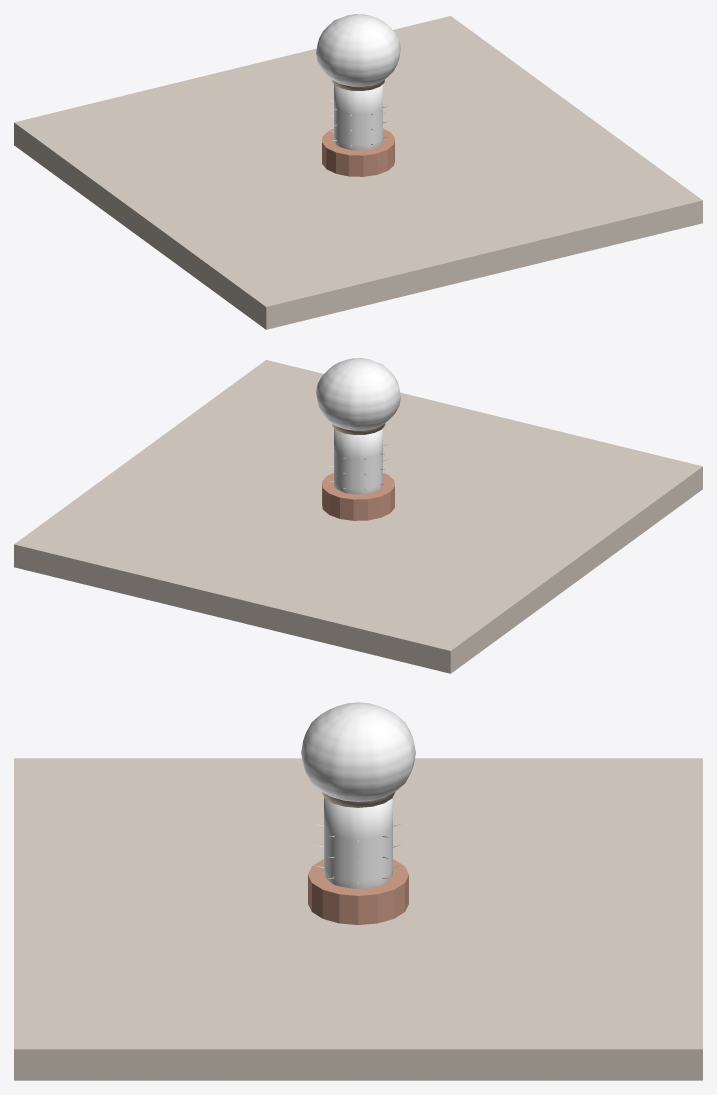
3 renders of one model, top to bottom at view 1: azimuth 30°, elevation 25°; view 2: azimuth 150°, elevation 25°; view 3: azimuth 270°, elevation 25°, orthographic. The views are drawn at different scales.
Size of the model in its own units: 3 by 1.09 by 3.
